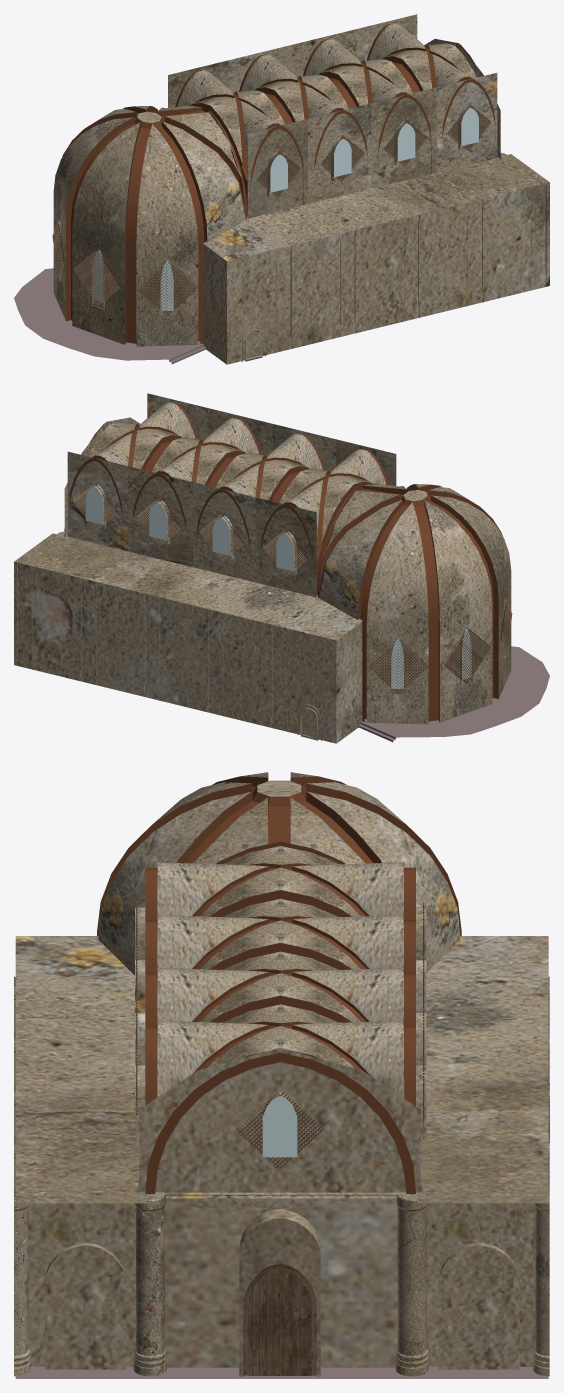
Rendered from church_1_UV (4).fbx.
The picture shows the model from 3 angles, top to bottom: view 1: azimuth 30°, elevation 25°; view 2: azimuth 150°, elevation 25°; view 3: azimuth 270°, elevation 25°; orthographic projection. The views are drawn at different scales.
Visible parts, largest first — view 1: wall_Floor, dome, Arch_windows, roof_arch, grid, Round_floor, Dome_Windows, Column_2, wall; view 2: wall_Floor, dome, Arch_windows, roof_arch, grid, Round_floor, Dome_Windows, Column_2, wall; view 3: wall, wall_Floor, roof_arch, dome, Column.004, Column_2, Arch_windows, grid.
Boxes of the visible parts, x1=… form: wall_Floor: x1=203, y1=154, x2=549, y2=364; dome: x1=53, y1=105, x2=246, y2=346; Arch_windows: x1=168, y1=14, x2=497, y2=218; roof_arch: x1=175, y1=23, x2=495, y2=215; grid: x1=52, y1=104, x2=491, y2=316; Round_floor: x1=14, y1=268, x2=205, y2=364; Dome_Windows: x1=57, y1=220, x2=174, y2=317; Column_2: x1=275, y1=184, x2=547, y2=352; wall: x1=424, y1=39, x2=501, y2=158; wall_Floor: x1=14, y1=533, x2=362, y2=743; dome: x1=318, y1=483, x2=511, y2=724; Arch_windows: x1=67, y1=393, x2=396, y2=597; roof_arch: x1=64, y1=402, x2=388, y2=595; grid: x1=73, y1=484, x2=512, y2=694; Round_floor: x1=358, y1=646, x2=549, y2=742; Dome_Windows: x1=390, y1=599, x2=507, y2=695; Column_2: x1=16, y1=563, x2=288, y2=731; wall: x1=64, y1=417, x2=140, y2=537; wall: x1=28, y1=1048, x2=535, y2=1376; wall_Floor: x1=15, y1=936, x2=548, y2=1378; roof_arch: x1=145, y1=841, x2=415, y2=1193; dome: x1=97, y1=772, x2=461, y2=975; Column.004: x1=133, y1=1192, x2=428, y2=1376; Column_2: x1=14, y1=976, x2=549, y2=1376; Arch_windows: x1=135, y1=907, x2=426, y2=1142; grid: x1=136, y1=902, x2=424, y2=1169.
Bounding box in the file's own units: 2887 × 4617 × 1960.
